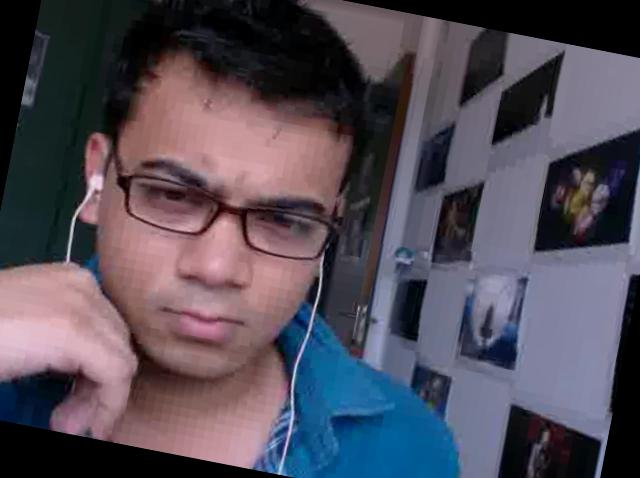bingung: (74, 70, 360, 406)
